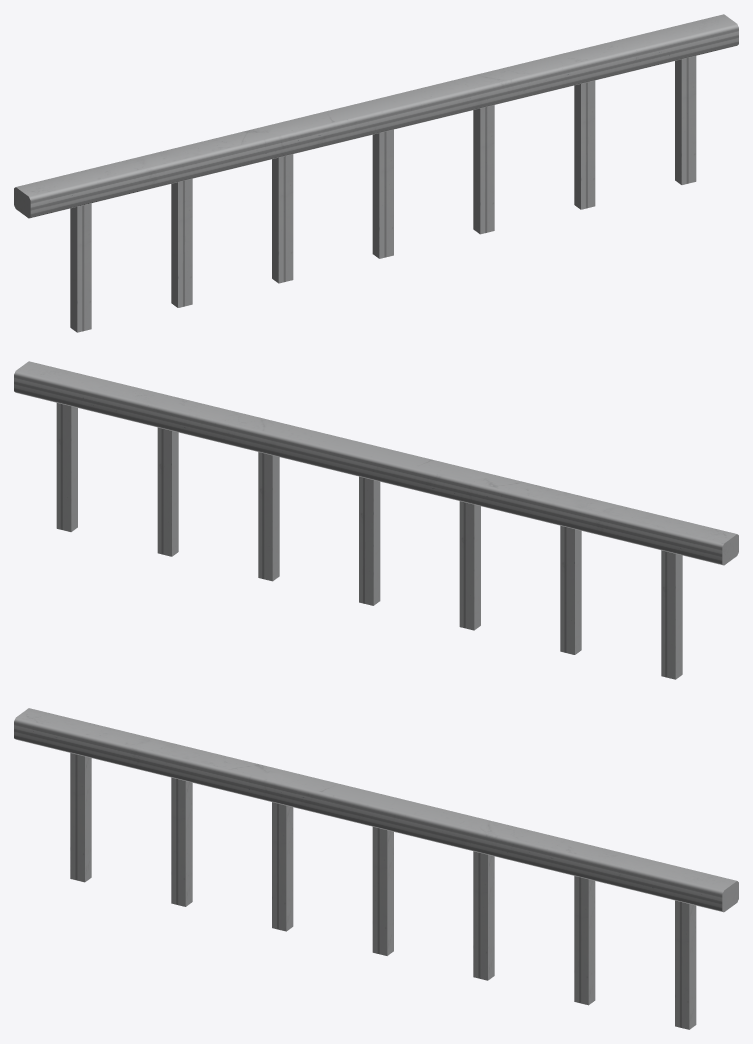
The model's file is MB_Railing_A_4m.fbx.
3 views of the same model, one above another, from view 1: azimuth 30°, elevation 25°; view 2: azimuth 150°, elevation 25°; view 3: azimuth 330°, elevation 25° (orthographic).
Visible parts, largest first — view 1: MB_Railing_A_4m; view 2: MB_Railing_A_4m; view 3: MB_Railing_A_4m.
Boxes of the visible parts, x1,y1,x2,y2 form: MB_Railing_A_4m: (14, 14, 738, 332); MB_Railing_A_4m: (14, 361, 738, 679); MB_Railing_A_4m: (14, 708, 738, 1029).
Size of the model in its own units: 400 by 81.47 by 16.24.
